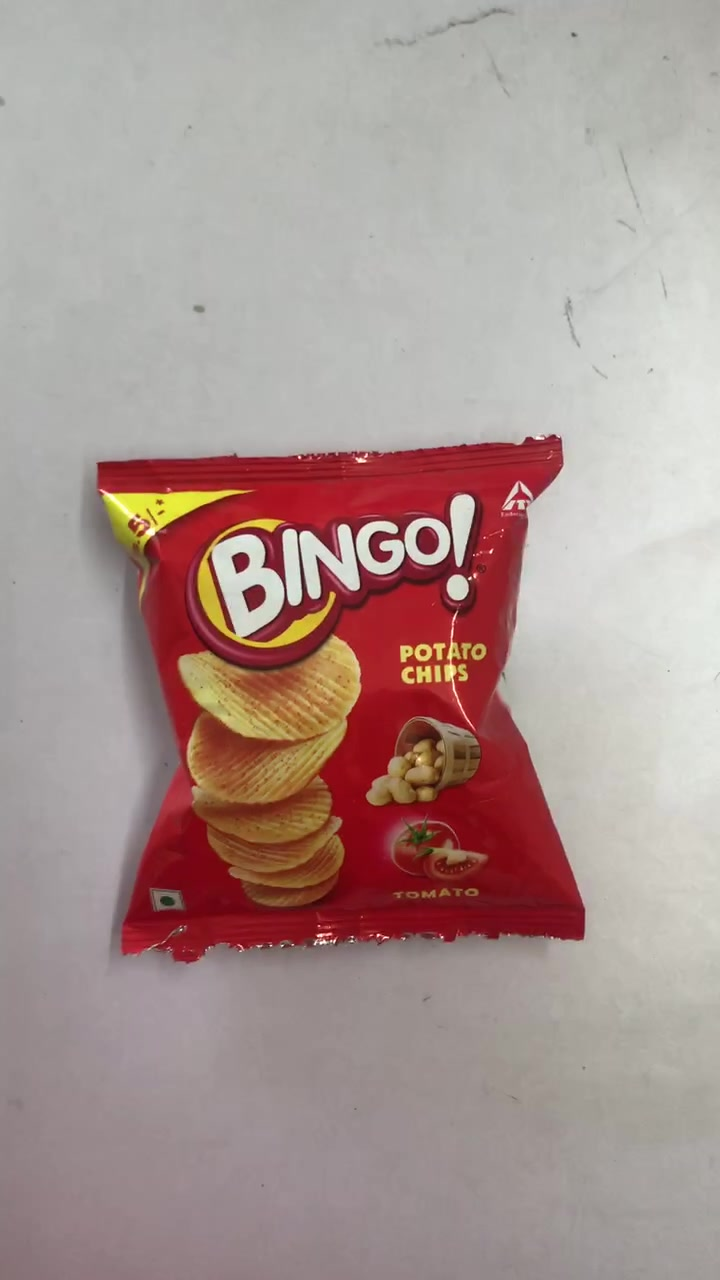Bingo: (102, 446, 585, 939)
